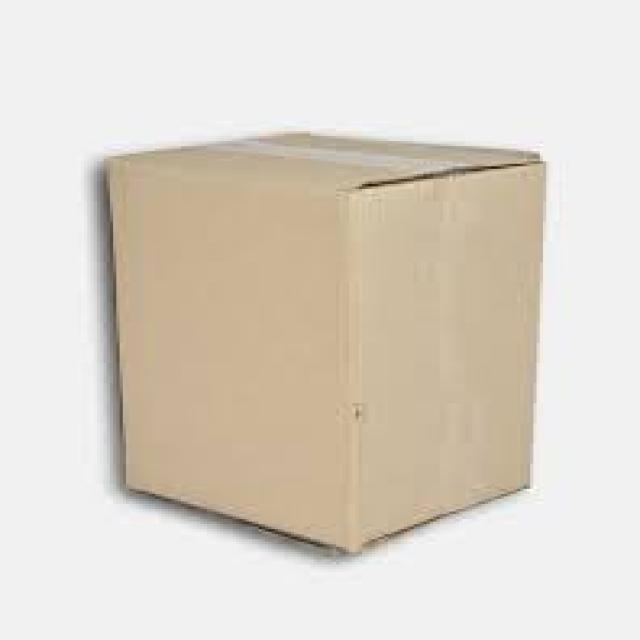cardboard: (100, 128, 540, 552)
